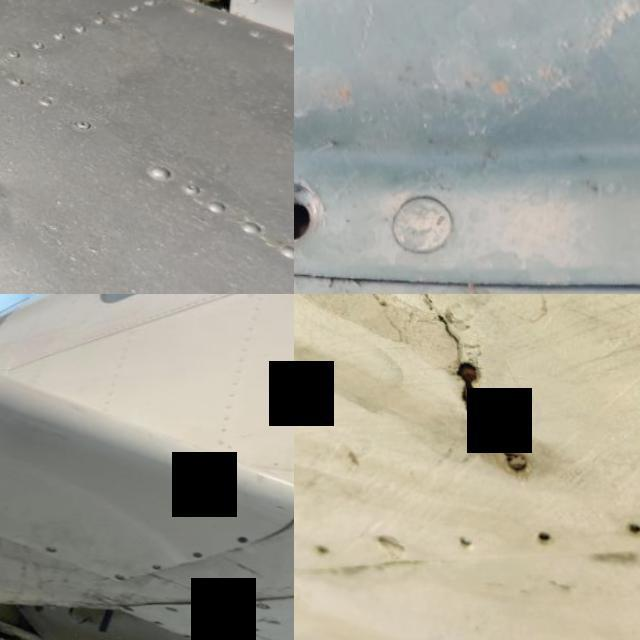Crack: (348, 294, 547, 491)
Dent: (0, 117, 42, 235)
Missing_Fastener: (294, 151, 353, 287), (42, 544, 56, 554), (110, 571, 122, 580), (233, 533, 244, 542), (201, 604, 217, 610), (188, 549, 199, 557), (119, 604, 130, 612), (149, 617, 160, 625), (162, 604, 174, 610), (179, 632, 191, 638), (147, 562, 158, 568)
